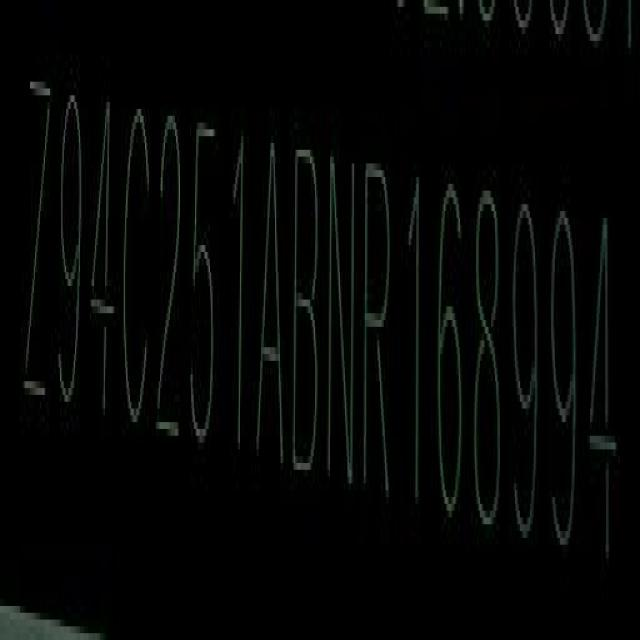1: (407, 172, 426, 512), (231, 124, 247, 453)
2: (156, 108, 182, 446)
4: (589, 206, 621, 572), (90, 89, 118, 424)
5: (192, 112, 220, 451)
6: (433, 182, 467, 530)
8: (472, 186, 502, 530)
9: (547, 207, 578, 560), (510, 196, 541, 547), (52, 79, 82, 416)
A: (253, 144, 287, 469)
B: (292, 136, 324, 480)
C: (122, 102, 154, 437)
N: (329, 141, 355, 482)
R: (362, 153, 394, 492)
Z: (22, 70, 48, 414)
